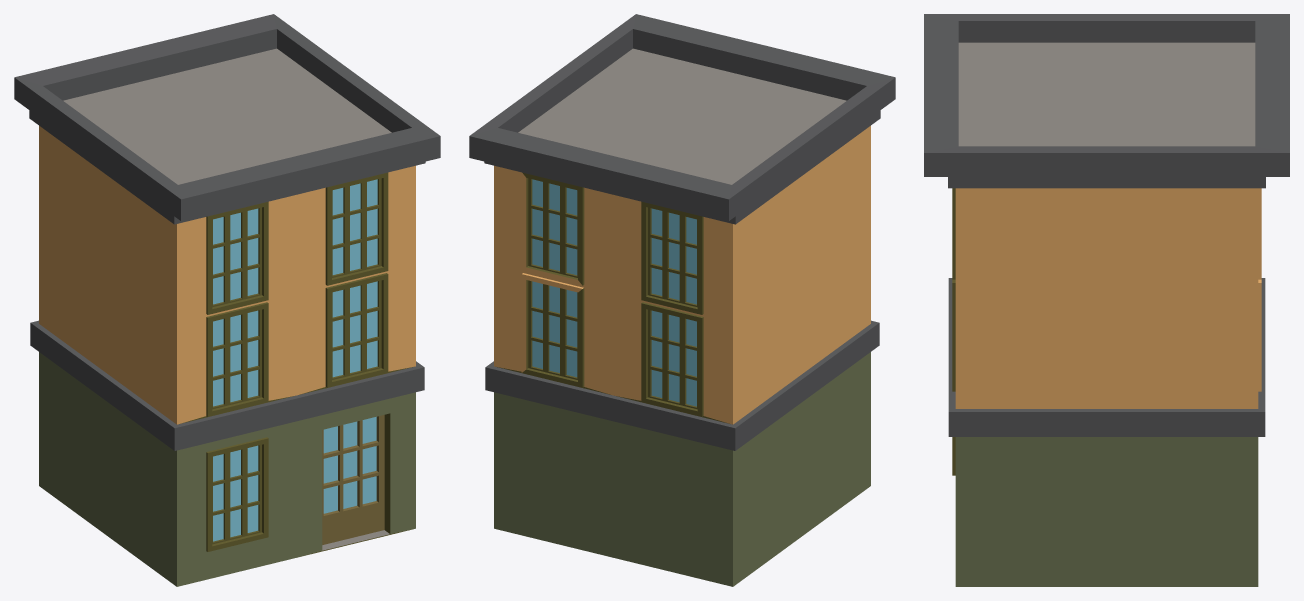
File: SM_Building_03_B.gltf
3 views of the same model, side by side, from view 1: azimuth 30°, elevation 25°; view 2: azimuth 150°, elevation 25°; view 3: azimuth 270°, elevation 25° (orthographic). The views are drawn at different scales.
Visible parts, largest first — view 1: SM_Building_03_B; view 2: SM_Building_03_B; view 3: SM_Building_03_B.
Part boxes in pixels (x1,y1,x2,y2): SM_Building_03_B: (14,14,440,586); SM_Building_03_B: (469,14,895,586); SM_Building_03_B: (924,14,1289,586).
Size of the model in its own units: 1.96 by 2.9 by 2.19.
